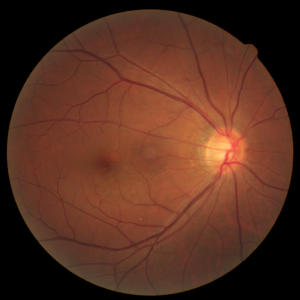healthy_eye: (74, 90, 268, 209)
